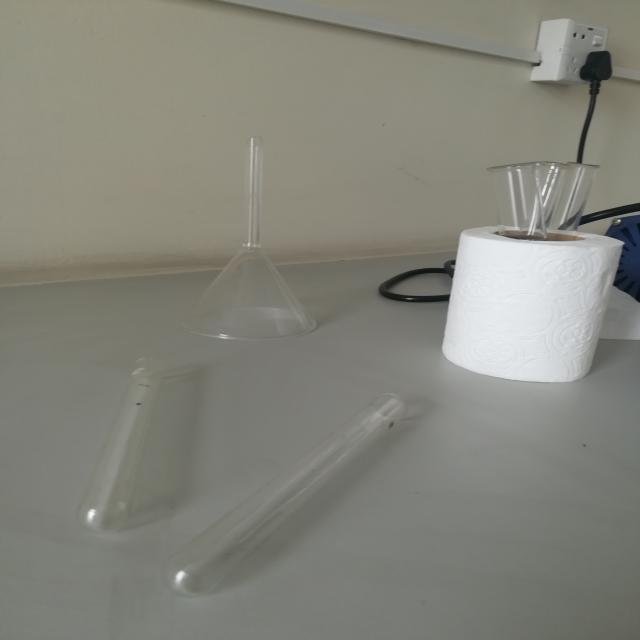Funnel: (159, 99, 344, 360)
Test_Tube: (148, 374, 452, 616), (72, 334, 162, 549)
